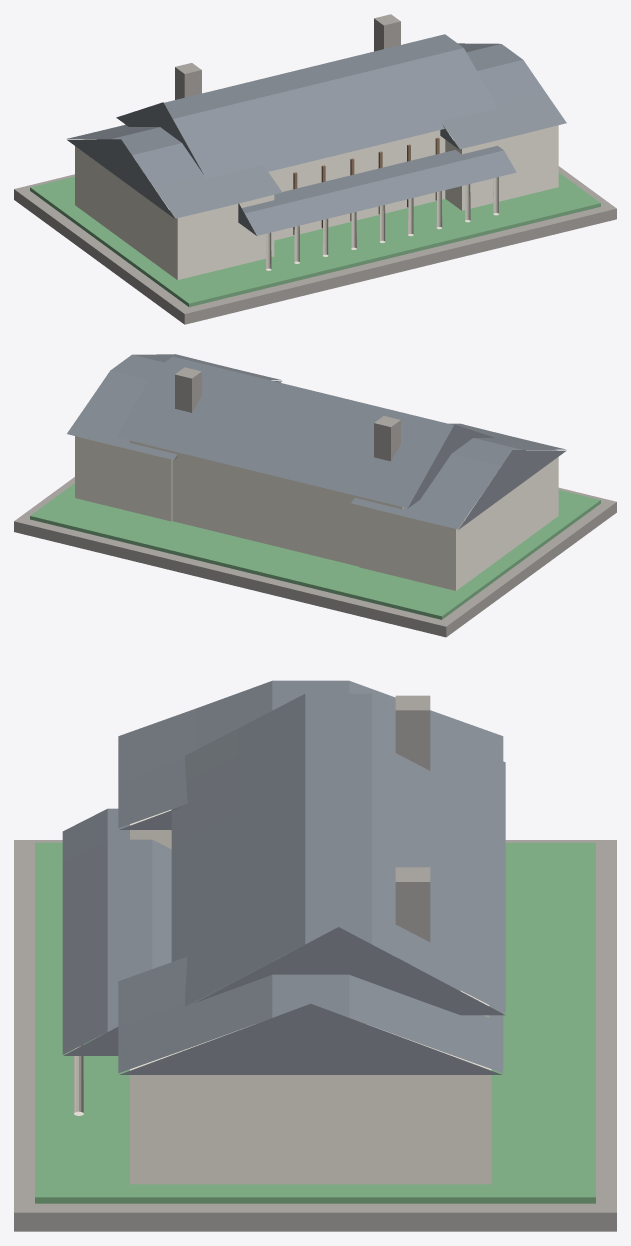
Rendered from lm_86_nha_cau_lac_bo_san_golf_doi_cu_dalat_palace_clubhouse.glb.
3 renders of one model, top to bottom at view 1: azimuth 30°, elevation 25°; view 2: azimuth 150°, elevation 25°; view 3: azimuth 270°, elevation 25°, orthographic. The views are drawn at different scales.
Visible parts, largest first — view 1: lm_86_nha_cau_lac_bo_san_golf_doi_cu_dalat_palace_clubhouse; view 2: lm_86_nha_cau_lac_bo_san_golf_doi_cu_dalat_palace_clubhouse; view 3: lm_86_nha_cau_lac_bo_san_golf_doi_cu_dalat_palace_clubhouse.
Part boxes in pixels (bbox=[...]): lm_86_nha_cau_lac_bo_san_golf_doi_cu_dalat_palace_clubhouse: bbox=[14, 14, 616, 324]; lm_86_nha_cau_lac_bo_san_golf_doi_cu_dalat_palace_clubhouse: bbox=[14, 354, 616, 637]; lm_86_nha_cau_lac_bo_san_golf_doi_cu_dalat_palace_clubhouse: bbox=[14, 680, 616, 1231].
Bounding box in the file's own units: 38 × 12.2 × 26.
